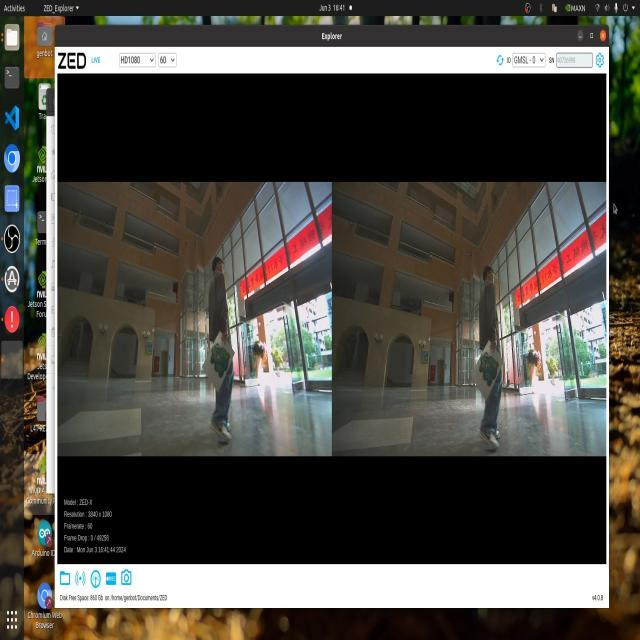green: (203, 348, 233, 381), (477, 344, 498, 390)
